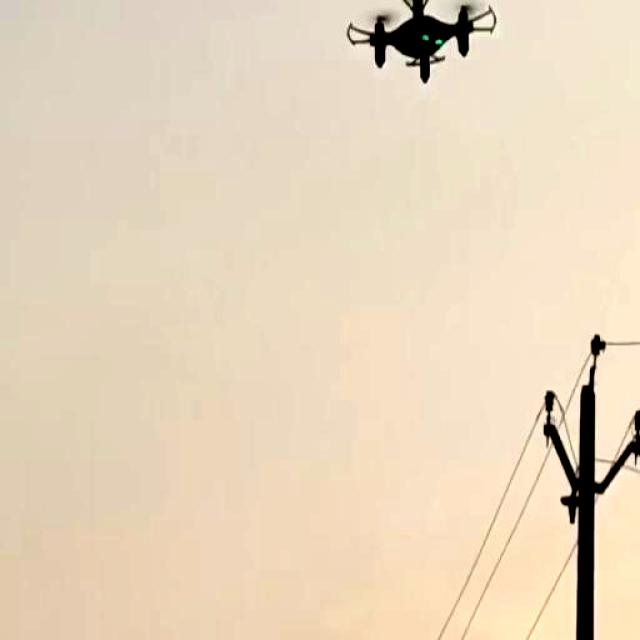bird: (335, 0, 502, 98)
